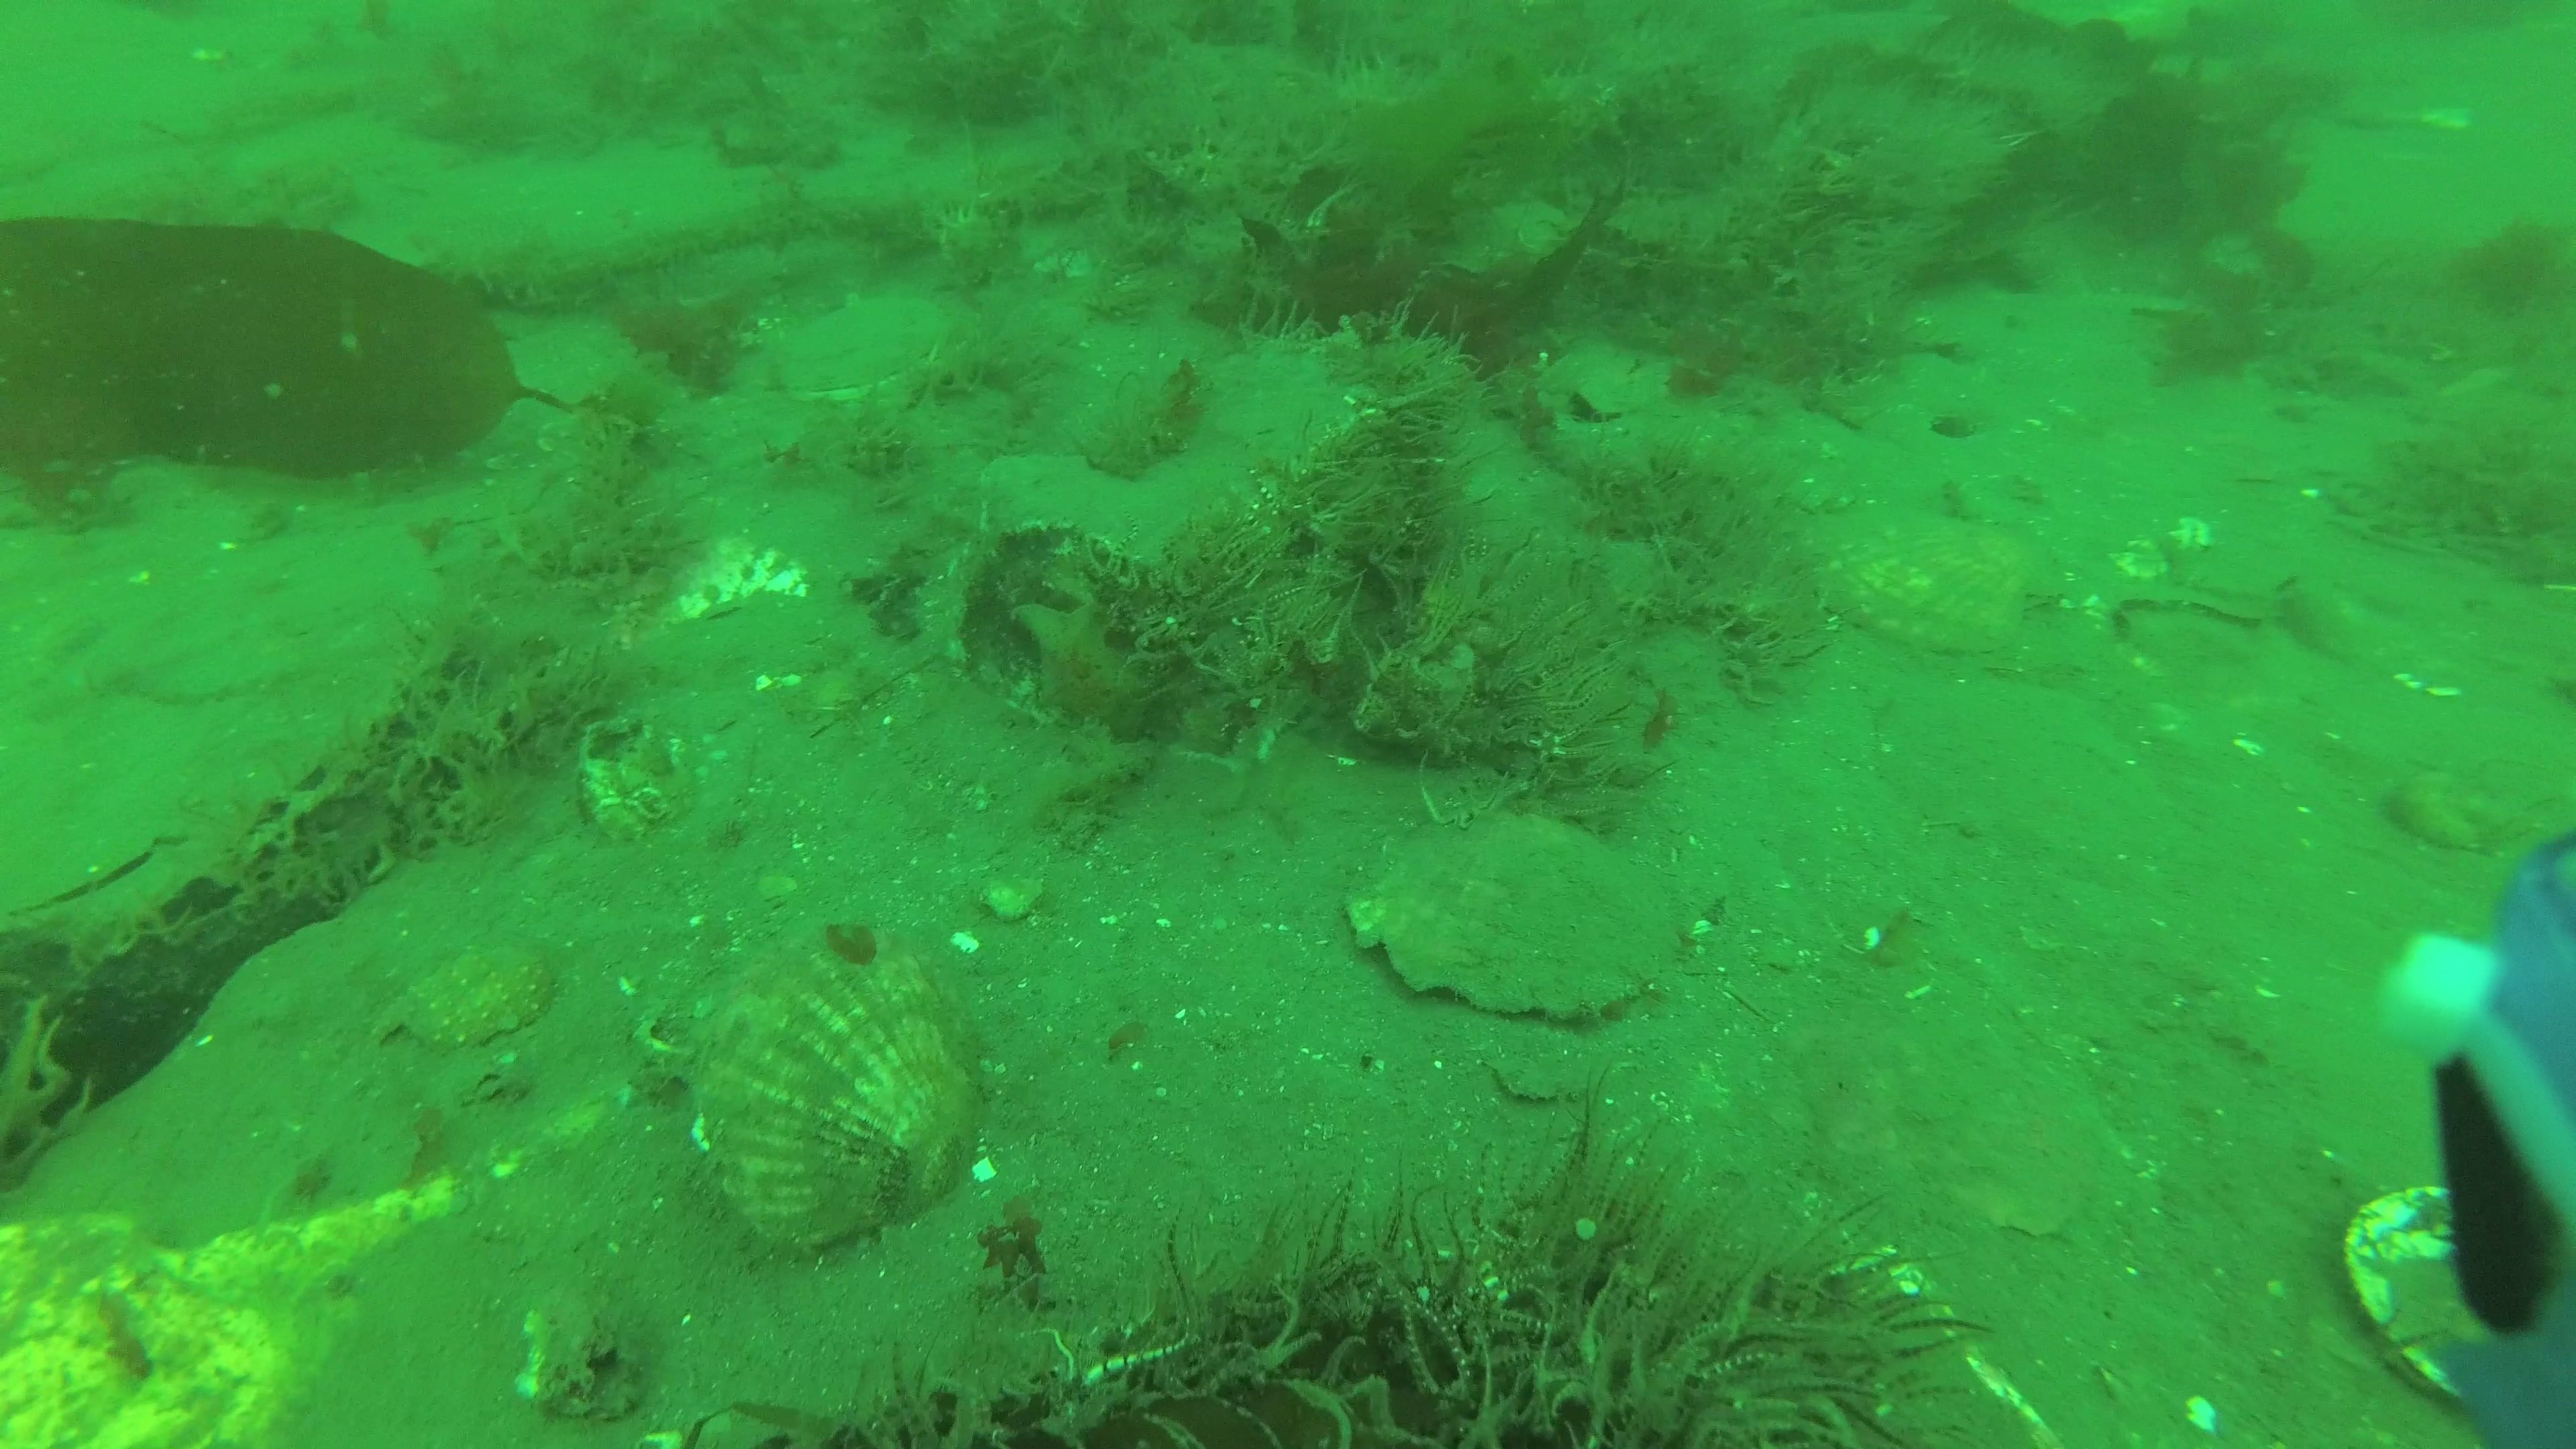scallop: (667, 947, 994, 1261), (1798, 494, 2074, 665)
